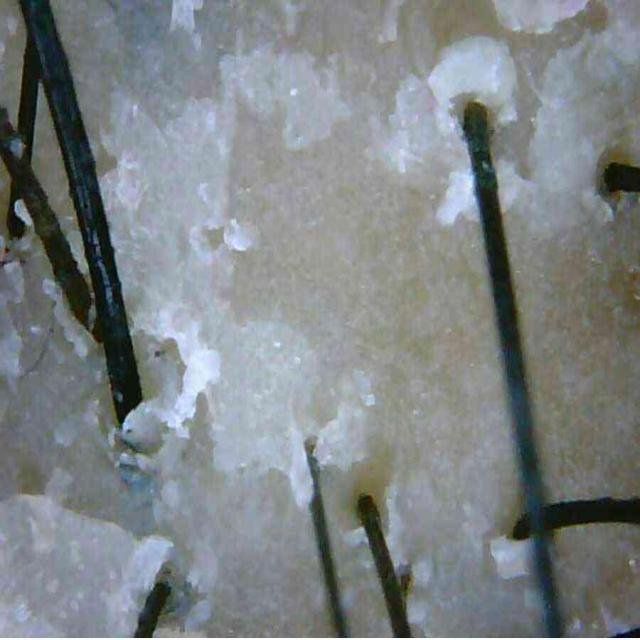d: (0, 495, 174, 637), (0, 495, 135, 637), (540, 28, 622, 109), (169, 324, 221, 430), (436, 36, 514, 94), (315, 403, 366, 470), (492, 1, 588, 34), (100, 156, 149, 211), (54, 294, 95, 358), (436, 170, 479, 226), (496, 159, 534, 212), (288, 426, 312, 509), (122, 405, 162, 453), (428, 71, 458, 135), (0, 294, 22, 378), (490, 537, 532, 580), (581, 189, 614, 224), (2, 262, 25, 303), (224, 218, 251, 251), (490, 95, 518, 126), (14, 199, 34, 228), (108, 426, 124, 452)
